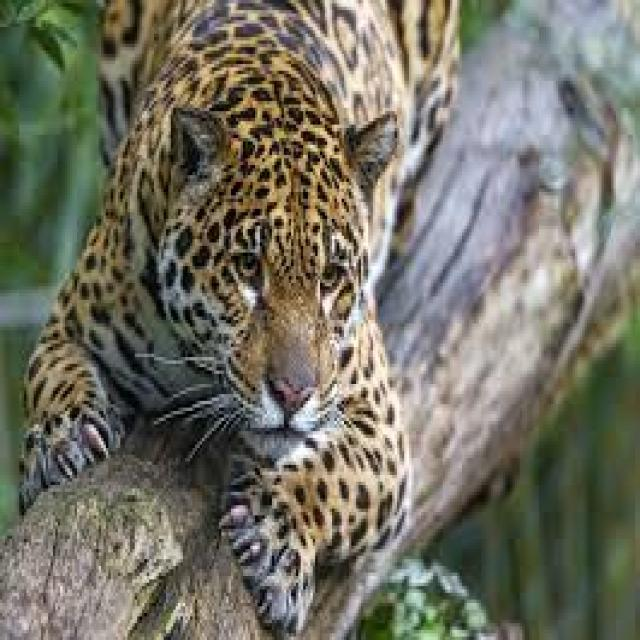Jaguar: (31, 3, 409, 593)
